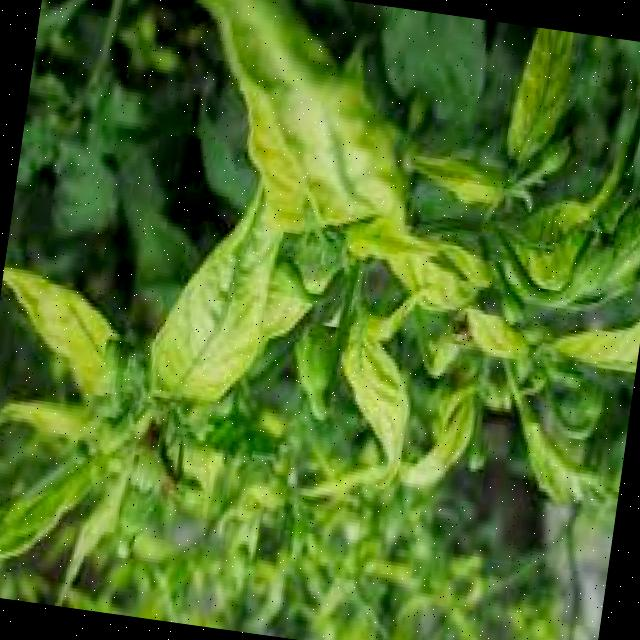leaf curl: (61, 0, 640, 520)
